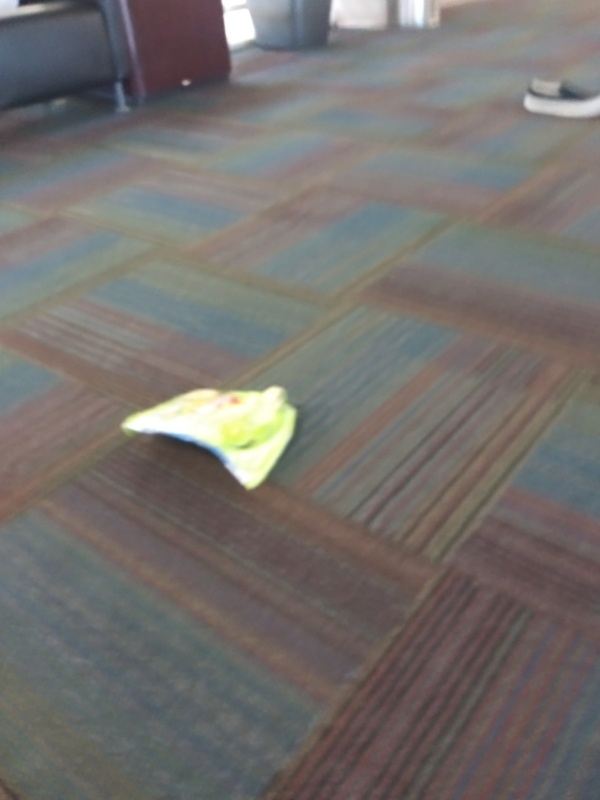bag: (112, 384, 305, 499)
